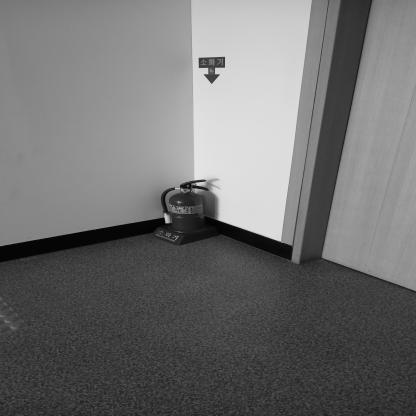FE: (156, 180, 218, 244)
